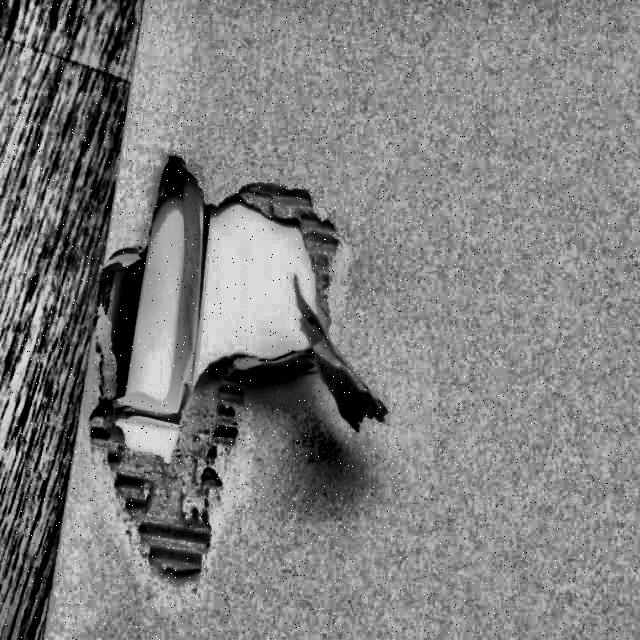box: (45, 0, 639, 639)
hole: (104, 150, 384, 474)
